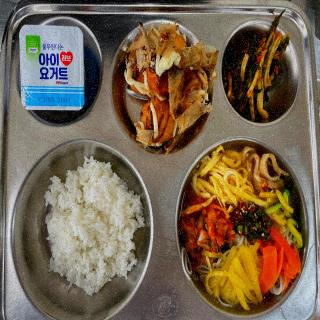Nasi: (43, 159, 149, 294)
